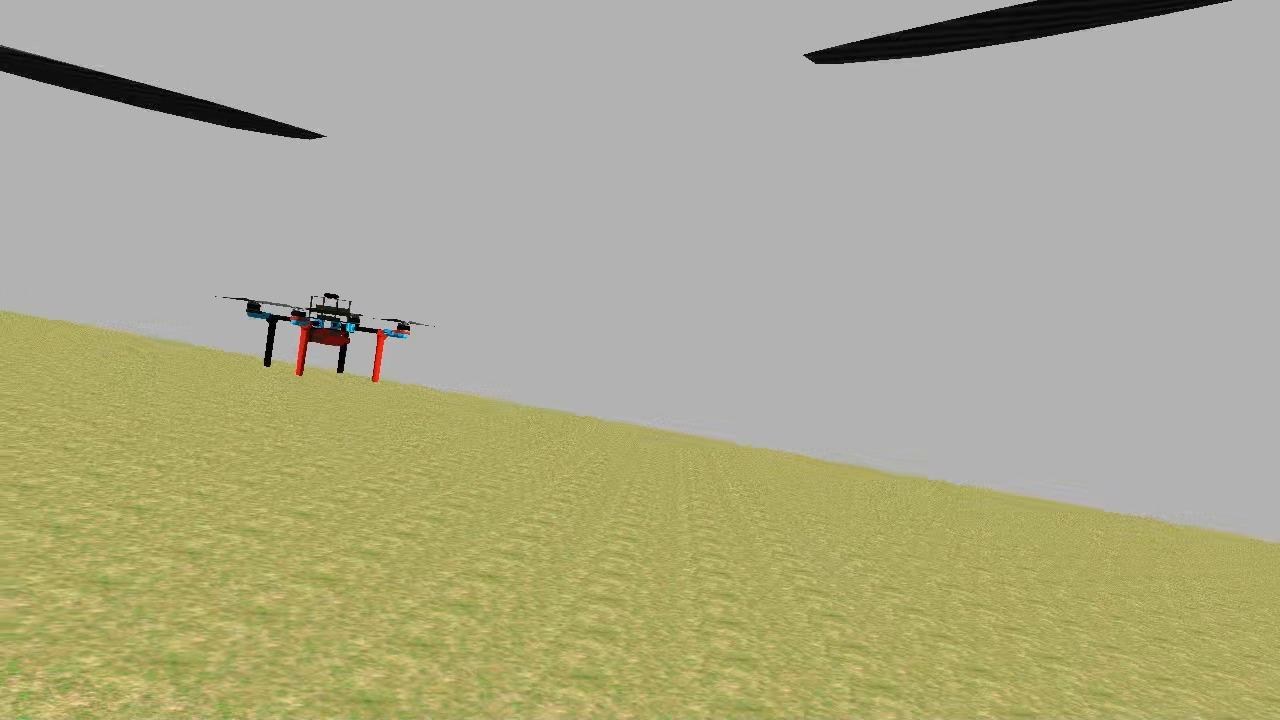UAV: (197, 264, 457, 406)
